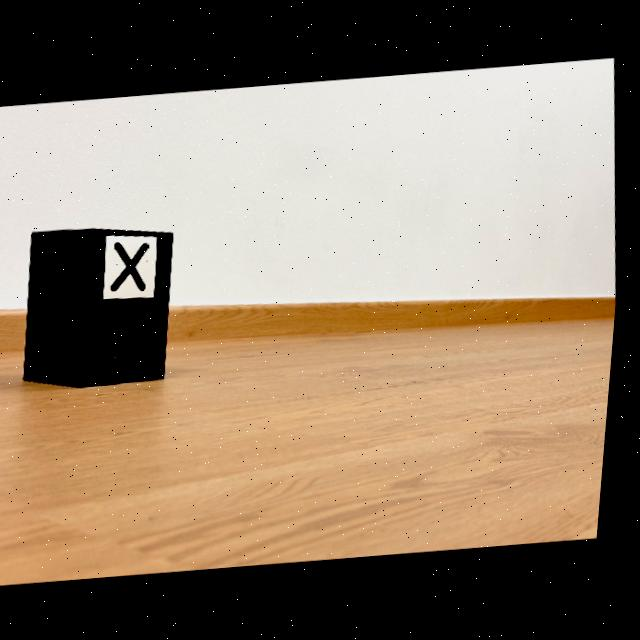X: (115, 241, 152, 292)
